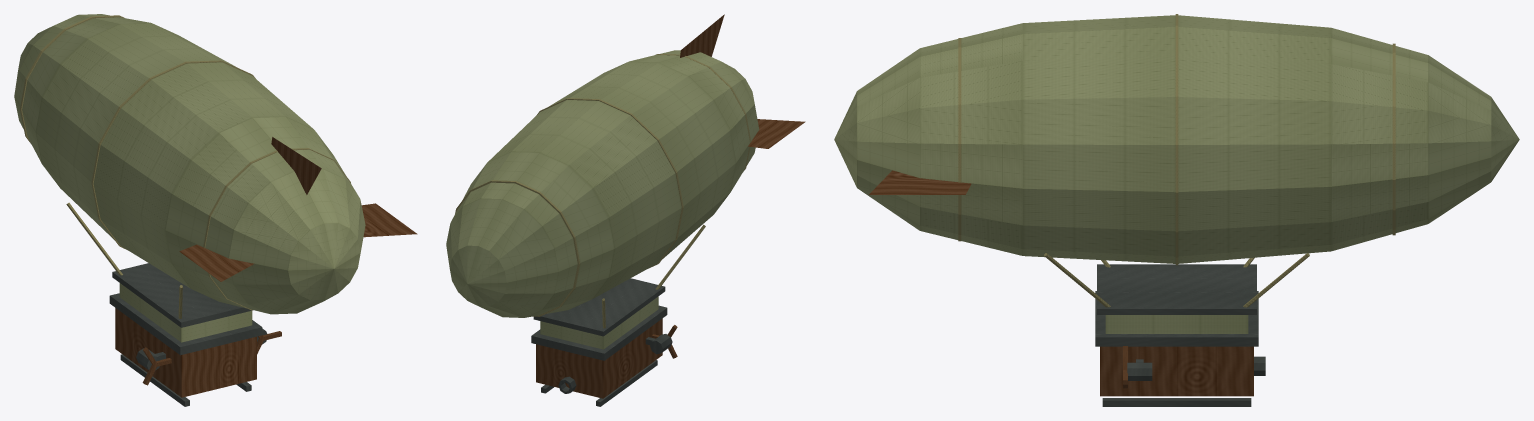
Rendered from zeppelin.glb.
3 views of the same model, side by side, from view 1: azimuth 30°, elevation 25°; view 2: azimuth 150°, elevation 25°; view 3: azimuth 270°, elevation 25° (orthographic). The views are drawn at different scales.
Parts seen in each view (by area): view 1: turntable, frame; view 2: turntable, frame; view 3: turntable, frame.
Boxes of the visible parts, x1,y1,x2,y2 form: turntable: (14,14,417,397); frame: (120,354,251,406); turntable: (446,14,805,398); frame: (541,360,657,406); turntable: (834,14,1519,396); frame: (1102,398,1251,406).
Bounding box in the file's own units: 4.6 × 7 × 12.
1 material, 1 textured.
